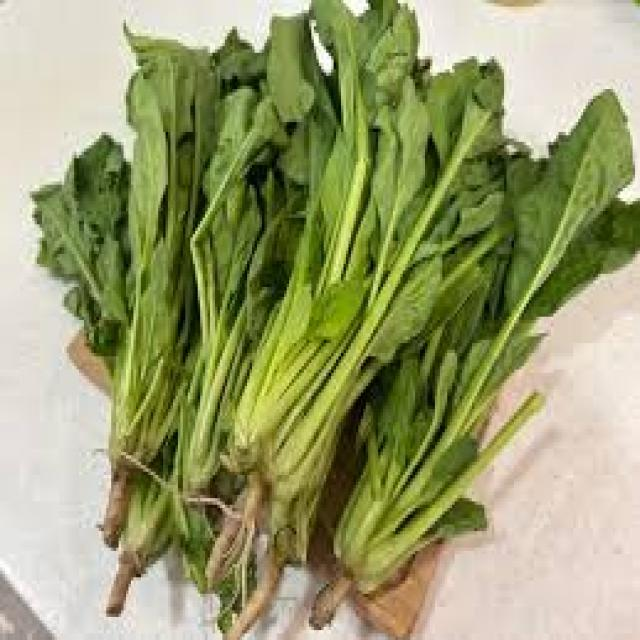spinach: (18, 1, 640, 631)
